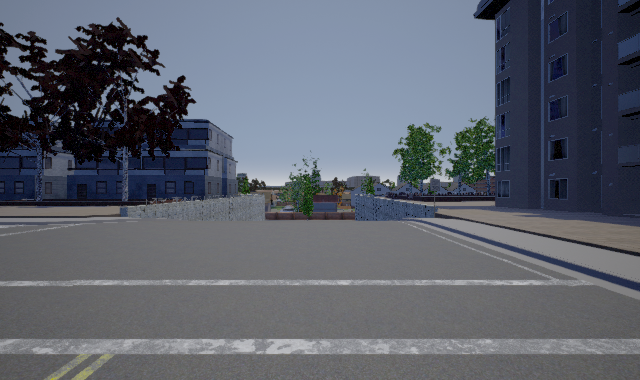traffic_sign: (430, 179, 440, 191)
